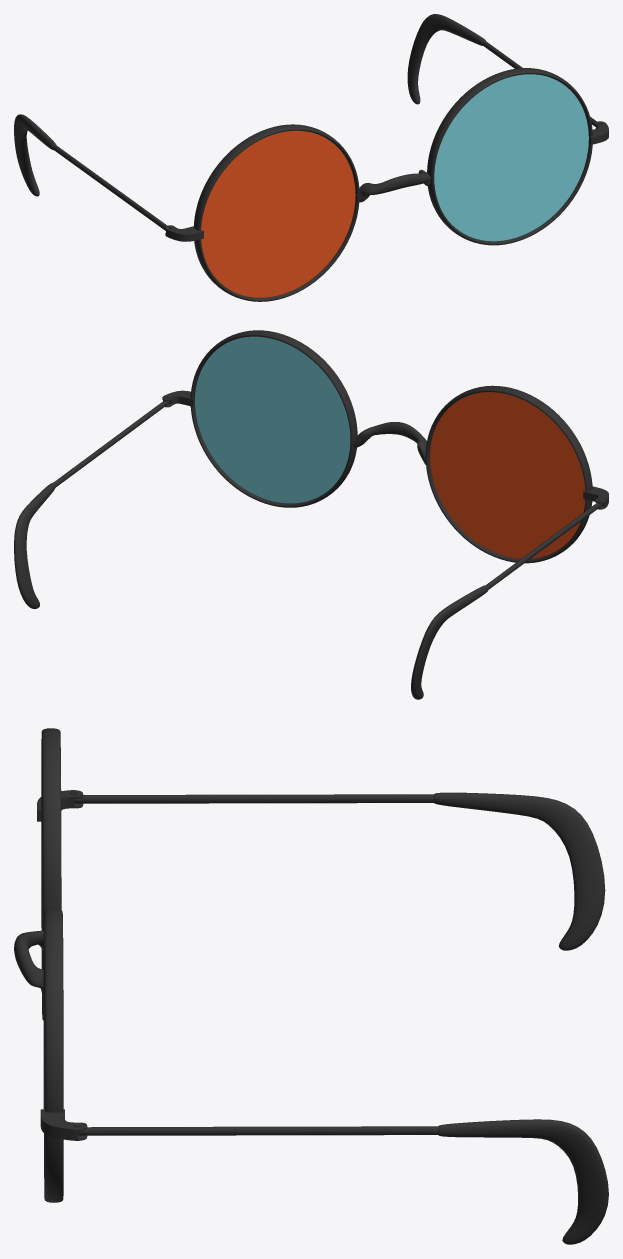
File: gr_spectacles.glb
The picture shows the model from 3 angles, top to bottom: view 1: azimuth 30°, elevation 25°; view 2: azimuth 150°, elevation 25°; view 3: azimuth 270°, elevation 25°; orthographic projection. The views are drawn at different scales.
Visible parts, largest first — view 1: polySurface3, polySurface2, polySurface4, polySurface1, pCube4, pCube2, pCube3, pCube1; view 2: polySurface3, polySurface2, polySurface4, polySurface1, pCube2, pCube4, pCube3; view 3: pCube4, pCube2, polySurface4, polySurface1, pCube3, pCube5.
Part boxes in pixels (<box>): polySurface3: <box>434,74,588,241</box>; polySurface2: <box>201,130,355,297</box>; polySurface4: <box>427,68,592,245</box>; polySurface1: <box>193,124,359,301</box>; pCube4: <box>14,114,167,230</box>; pCube2: <box>407,14,596,127</box>; pCube3: <box>359,169,431,202</box>; pCube1: <box>165,225,203,241</box>; polySurface3: <box>195,336,350,503</box>; polySurface2: <box>430,392,585,558</box>; polySurface4: <box>190,330,357,507</box>; polySurface1: <box>425,385,592,563</box>; pCube2: <box>14,401,169,608</box>; pCube4: <box>411,503,602,699</box>; pCube3: <box>353,422,426,464</box>; pCube4: <box>74,792,605,950</box>; pCube2: <box>78,1119,608,1244</box>; polySurface4: <box>43,908,63,1202</box>; polySurface1: <box>41,728,61,1020</box>; pCube3: <box>14,930,43,996</box>; pCube5: <box>40,1109,87,1140</box>.
Bounding box in the file's own units: 5.6 × 2.09 × 4.19.
